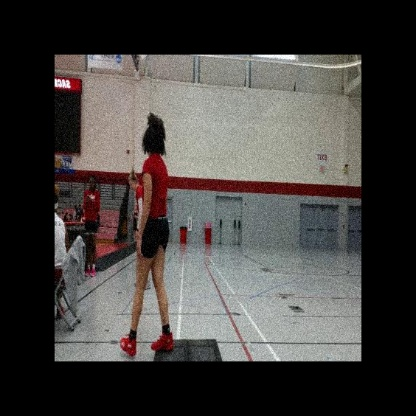lateral_flexion_right: (118, 112, 175, 361)
stance_width_broad: (120, 154, 175, 361)
